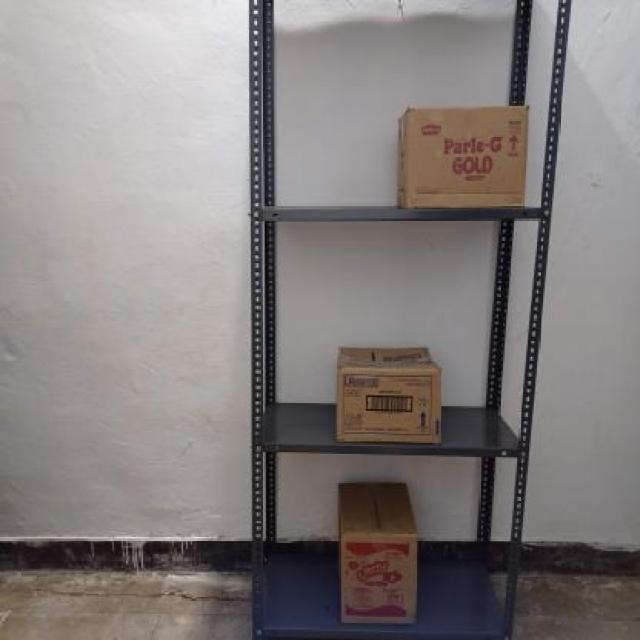box: (403, 108, 526, 212), (336, 363, 442, 442), (338, 531, 416, 624)
